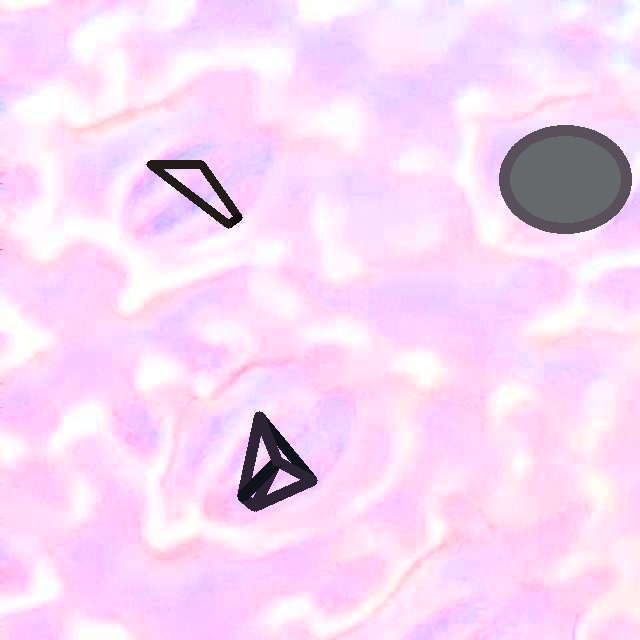open: (499, 125, 632, 233), (238, 412, 316, 510), (147, 160, 241, 227)
